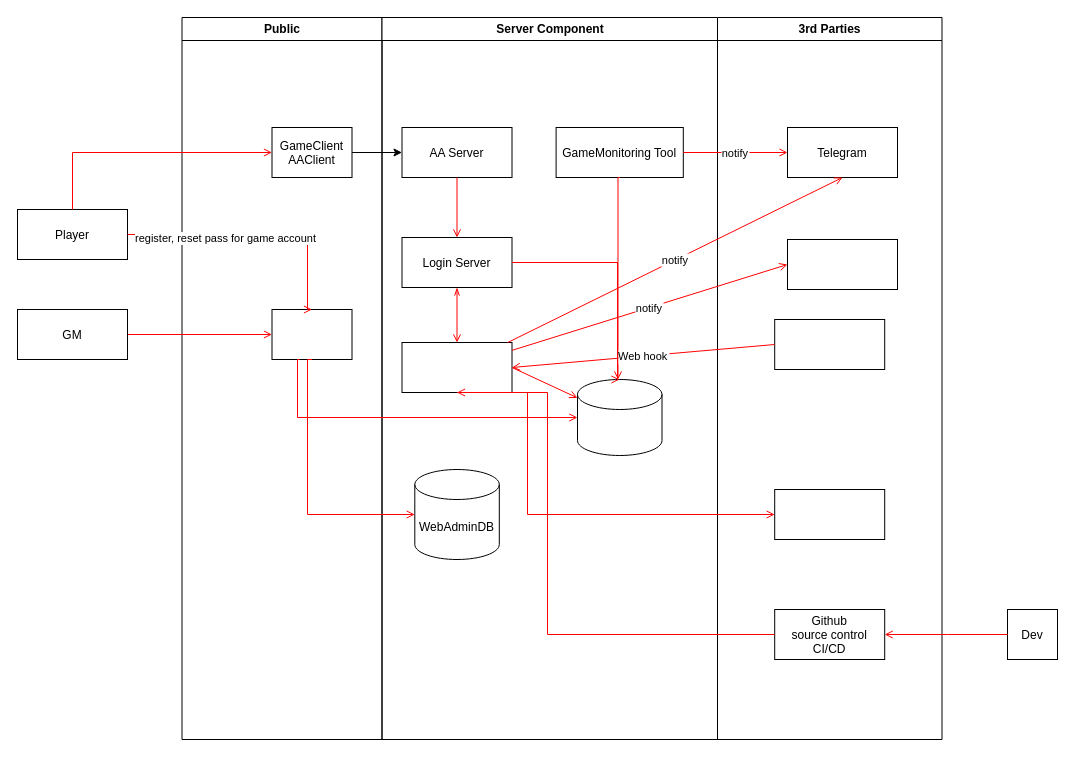
Some shapes in this 1075 by 757 pixel diagram are drawn without their labels. The shapes that lost their labels are listed below. From the top down, each one's centre as x and y in pixels, then its label:
(x=842, y=264): Discord
(x=311, y=334): WebAdmin
(x=829, y=344): Casso Payment Gateway
(x=456, y=367): Game Server
(x=619, y=417): GameDB
(x=829, y=514): Cloud Backup OneDrive, Gdrive
